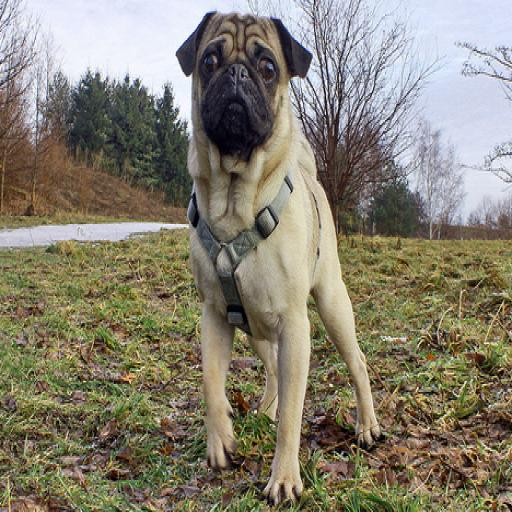dog_face: (167, 4, 312, 145)
